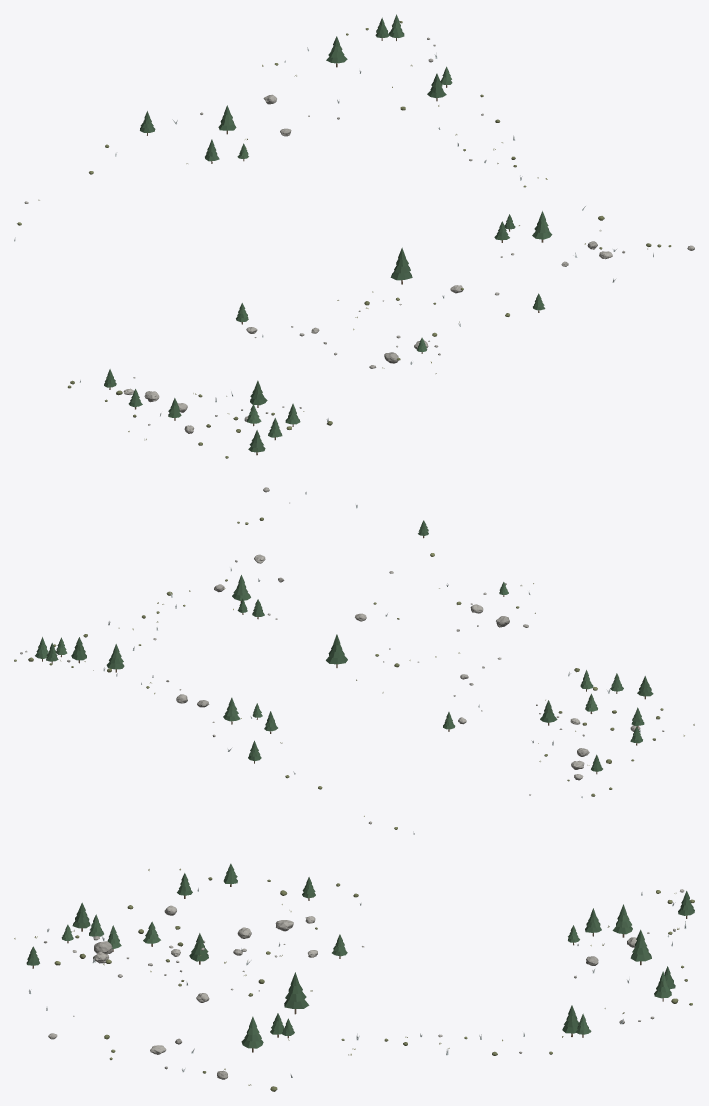
File: coast_land_scatter_c10_16.glb
The picture shows the model from 3 angles, top to bottom: view 1: azimuth 30°, elevation 25°; view 2: azimuth 150°, elevation 25°; view 3: azimuth 270°, elevation 25°; orthographic projection. The views are drawn at different scales.
Visible parts, largest first — view 1: coast_land_scatter_c10_16; view 2: coast_land_scatter_c10_16; view 3: coast_land_scatter_c10_16.
Boxes of the visible parts, x1,y1,x2,y2 form: coast_land_scatter_c10_16: (14,14,694,458); coast_land_scatter_c10_16: (14,487,694,834); coast_land_scatter_c10_16: (14,863,694,1091).
Bounding box in the file's own units: 257 × 82.33 × 256.
